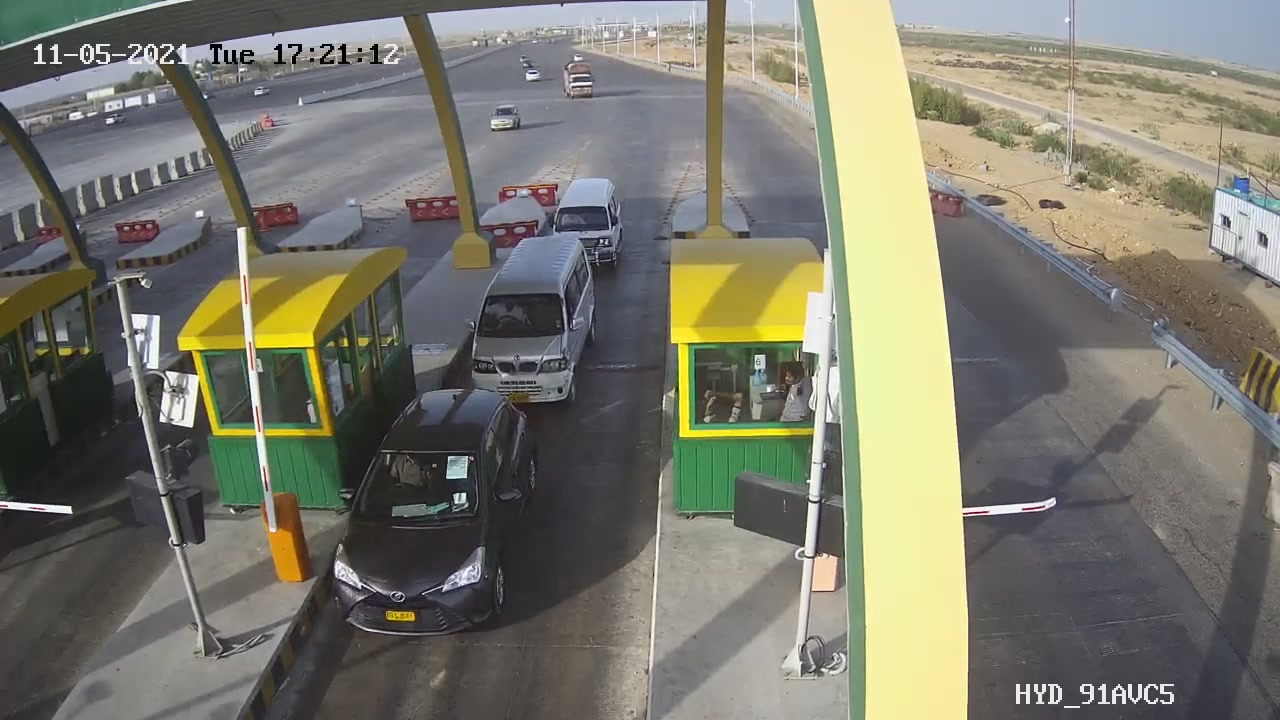F1: (322, 372, 550, 656)
